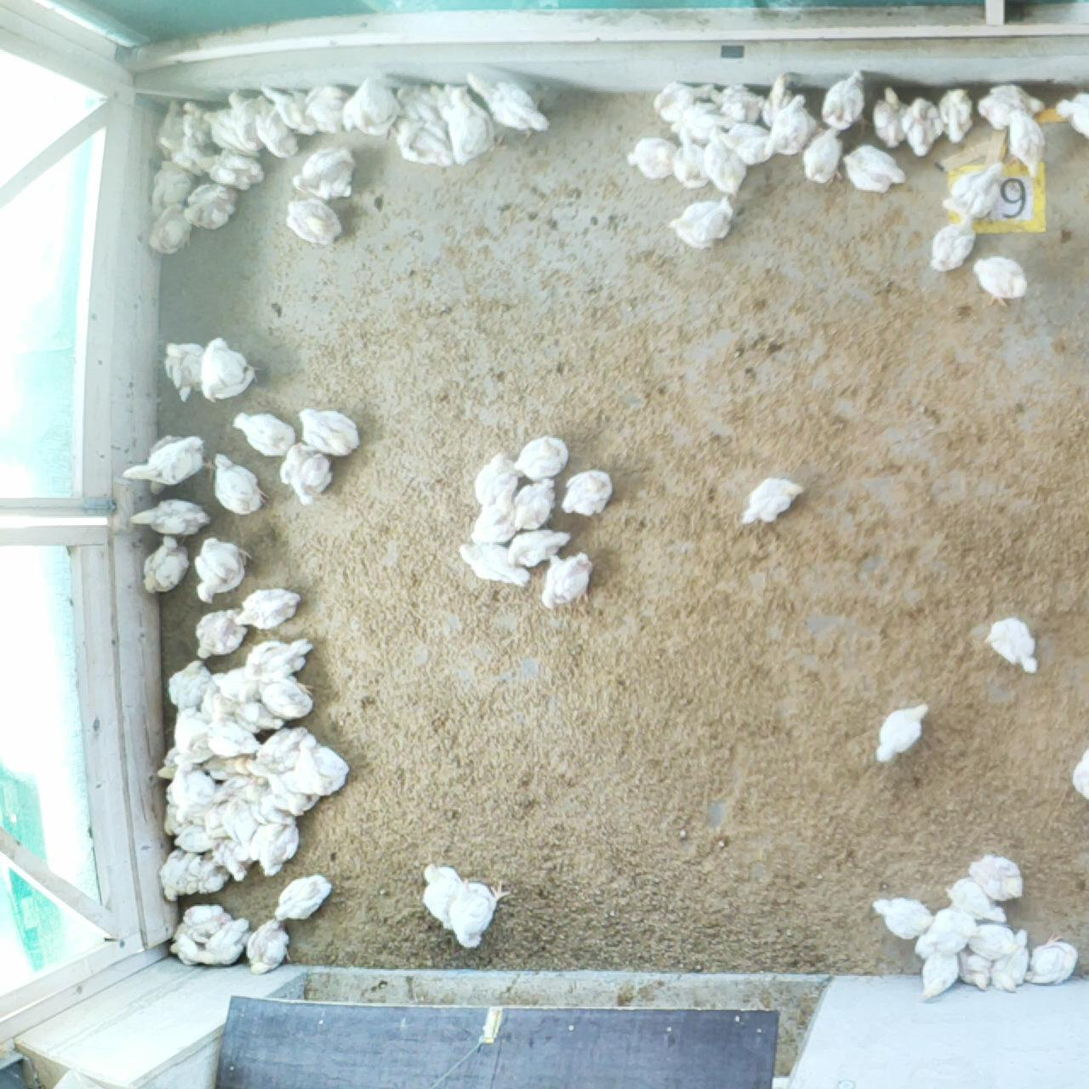chicken: (462, 67, 555, 141), (119, 434, 212, 489), (446, 82, 506, 167), (449, 875, 513, 952), (197, 334, 264, 407), (191, 534, 255, 606), (868, 697, 931, 766), (290, 144, 361, 204), (663, 194, 736, 252), (839, 140, 910, 199), (340, 73, 402, 140), (208, 450, 270, 517), (275, 438, 336, 506), (127, 496, 214, 543), (981, 614, 1044, 678), (943, 160, 1008, 221), (734, 473, 807, 527), (940, 873, 1011, 928), (912, 899, 976, 960), (455, 540, 532, 590), (294, 732, 352, 798), (241, 634, 314, 685), (975, 80, 1048, 131), (293, 405, 361, 459), (764, 90, 819, 156), (1021, 929, 1082, 988), (161, 704, 213, 773), (248, 724, 317, 776), (701, 121, 750, 194), (539, 549, 594, 614), (248, 814, 302, 880), (966, 847, 1028, 904), (230, 585, 304, 632), (969, 252, 1032, 307), (925, 212, 978, 277), (192, 603, 250, 662), (1003, 101, 1046, 180), (392, 118, 457, 170), (230, 410, 298, 459), (251, 94, 301, 160), (140, 532, 192, 595), (161, 338, 209, 406), (502, 527, 574, 572), (870, 892, 936, 941), (273, 872, 335, 924), (179, 180, 241, 232), (419, 859, 463, 932), (256, 673, 316, 726), (243, 915, 294, 977), (200, 148, 268, 194), (668, 121, 712, 192), (284, 196, 344, 248), (200, 107, 263, 156), (820, 69, 869, 132), (989, 926, 1032, 997), (713, 118, 779, 164), (472, 449, 520, 512), (467, 486, 517, 546), (511, 433, 571, 482), (203, 913, 255, 969), (145, 200, 196, 257), (168, 769, 218, 827), (901, 93, 944, 160), (799, 124, 844, 188), (753, 69, 800, 130), (649, 78, 716, 120), (510, 476, 558, 534), (869, 80, 908, 151), (916, 943, 961, 1004), (166, 657, 214, 714), (303, 82, 353, 136), (559, 468, 614, 517), (225, 86, 265, 153), (147, 431, 186, 499), (624, 133, 678, 181), (208, 713, 262, 759), (264, 773, 319, 818), (966, 922, 1022, 966), (148, 156, 191, 213), (157, 131, 209, 178), (155, 844, 195, 905), (173, 905, 235, 943), (936, 84, 974, 146), (207, 666, 267, 705), (184, 850, 232, 898), (669, 102, 720, 145), (196, 747, 259, 781), (212, 834, 254, 884), (222, 795, 259, 851), (230, 698, 286, 734), (1051, 88, 1089, 141), (711, 84, 765, 120), (956, 945, 995, 994), (211, 774, 269, 806), (177, 99, 214, 148), (395, 81, 439, 121), (157, 94, 184, 156), (170, 822, 220, 854), (198, 683, 238, 720), (167, 933, 207, 968), (161, 784, 184, 841), (205, 797, 232, 840), (429, 83, 458, 118)
